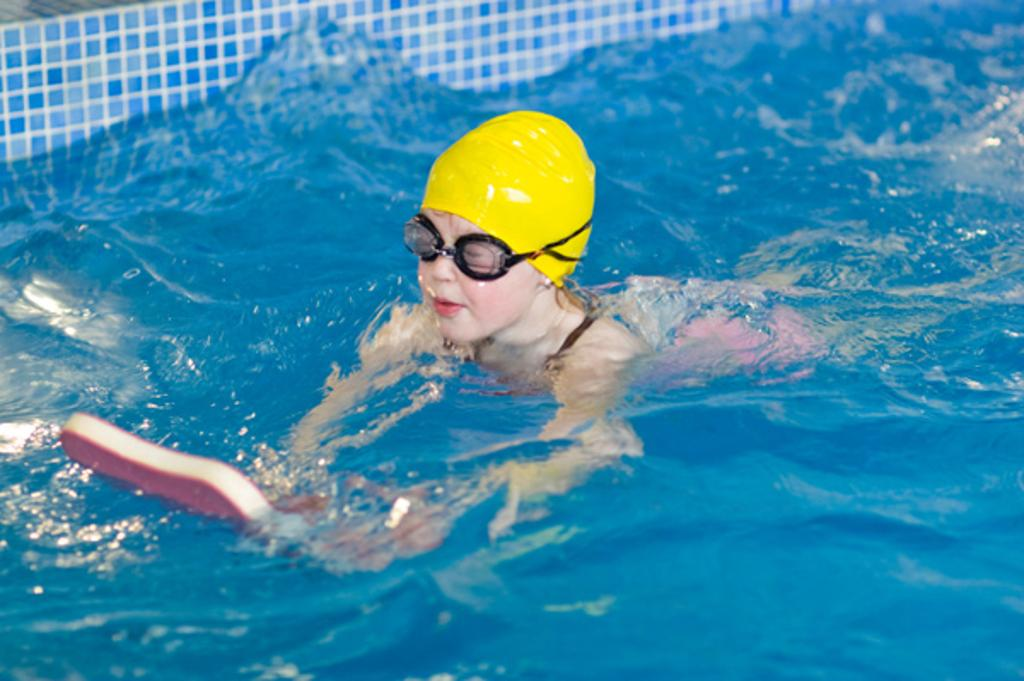face: (416, 170, 536, 342)
